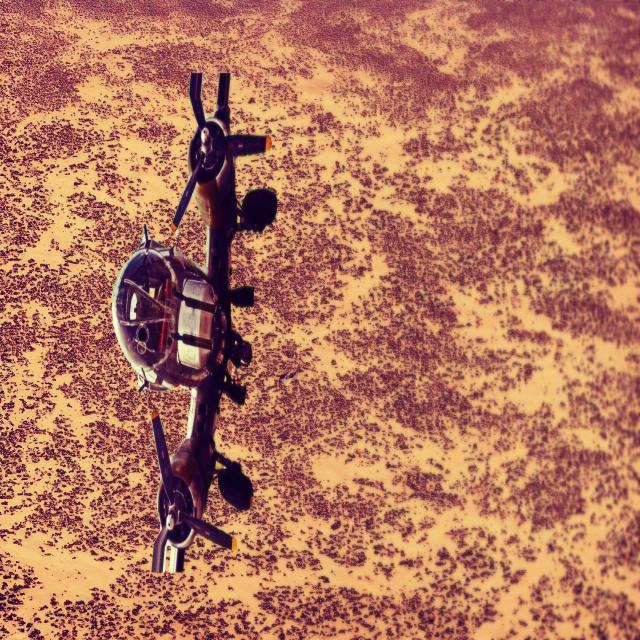airplane: (110, 69, 277, 574)
